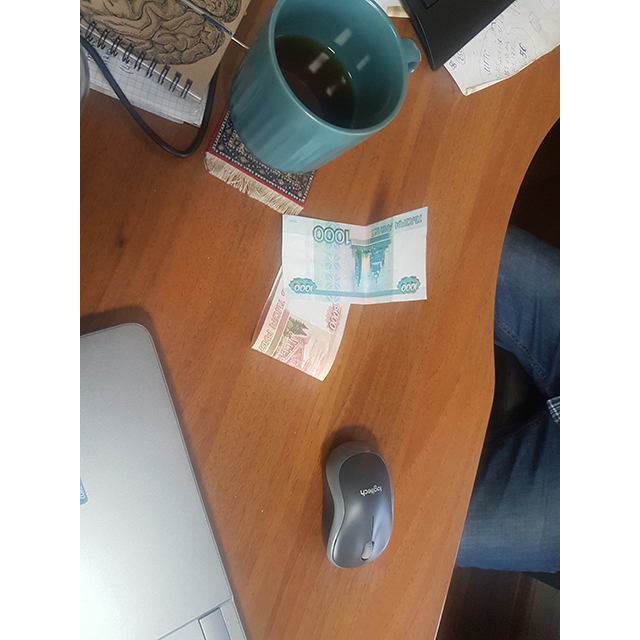banknotes: (284, 206, 428, 302), (250, 275, 351, 381)
